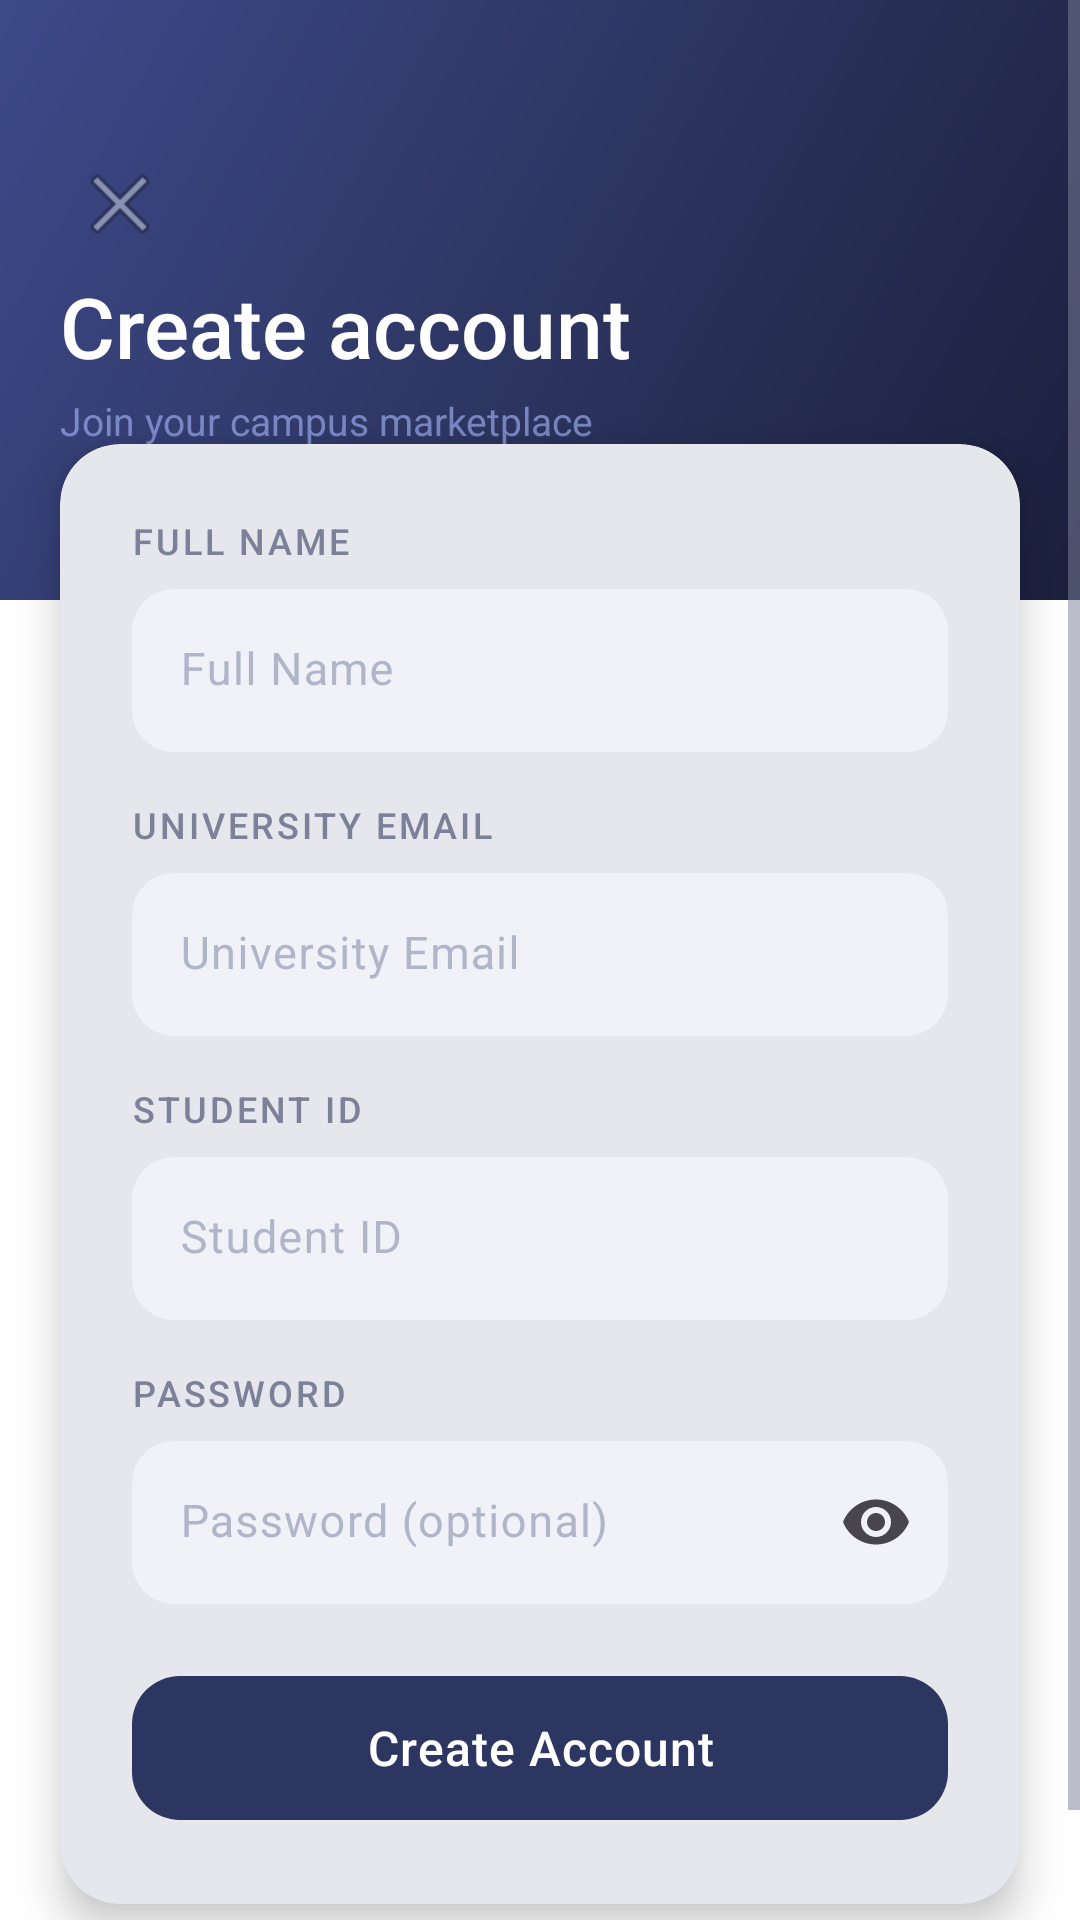

Named icons in this screenshot (1080w x 1920h) and their bounding boxes, (x1, y1, x2, y2):
Back: (91, 175, 149, 233)
